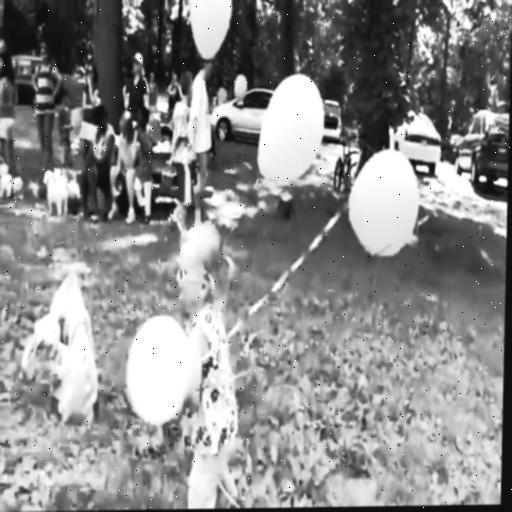balloon: (350, 147, 419, 260), (258, 74, 327, 183), (126, 315, 187, 422), (191, 0, 229, 59), (235, 75, 247, 104)
